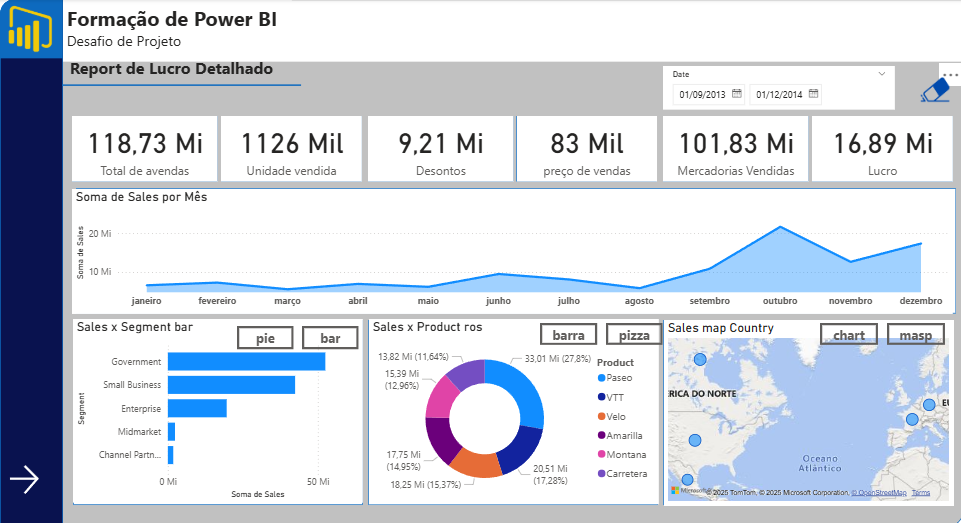

The dashboard page shown, as its layout file describes it:
{"tool":"powerbi","page":{"name":"Página 1","canvas":[1280,720],"ordinal":0},"visuals":[{"type":"shape","box":[0,1.7,1280,702.5],"z":0},{"type":"slicer","fields":{"Values":["financials.Date"]},"box":[880.7,89.1,308.2,61.7],"z":0,"group":"g2"},{"type":"shape","box":[96,156.4,193.3,86.9],"z":0,"group":"g1"},{"type":"pieChart","title":"Sales x  Segment piz","fields":{"Category":["financials.Segment"],"Y":["Sum(financials. Sales)"]},"box":[101.3,426.6,381.5,245.9],"z":0,"group":"g3"},{"type":"treemap","title":"Sales x Country  seg","fields":{"Group":["financials.Country"],"Values":["Sum(financials. Sales)"]},"box":[882,426.7,383.6,245.6],"z":0,"group":"g4"},{"type":"shape","box":[0,0,83.4,687.8],"z":1000},{"type":"actionButton","box":[1194.3,90.4,70.2,56.6],"z":1000,"group":"g2"},{"type":"shape","box":[293.7,156.4,187.5,86.9],"z":1000,"group":"g1"},{"type":"clusteredBarChart","title":"Sales x  Segment bar","fields":{"Y":["Sum(financials. Sales)"],"Category":["financials.Segment"]},"box":[97.2,424.6,385.1,244.1],"z":1000,"group":"g3"},{"type":"columnChart","title":"Sales x Product bar","fields":{"Category":["financials.Product"],"Y":["Sum(financials. Sales)"]},"box":[488.8,425.5,384.5,246.1],"z":1000,"group":"g5"},{"type":"map","title":"Sales map Country","fields":{"Category":["financials.Country"],"Size":["Sum(financials. Sales)"]},"box":[882,426.7,383.6,245.6],"z":1000,"group":"g4"},{"type":"shape","box":[0,0,83.4,79],"z":2000},{"type":"shape","box":[488.6,156.4,193.3,86.9],"z":2000,"group":"g1"},{"type":"actionButton","title":"Spix","box":[314.8,434.3,75.2,30.9],"z":2000,"group":"g3"},{"type":"shape","box":[83.4,1.8,1197.1,82.3],"z":3000},{"type":"shape","box":[881.1,156.4,193.3,86.9],"z":3000,"group":"g1"},{"type":"actionButton","title":"Sbar","box":[401.7,434.3,75.2,30.9],"z":3000,"group":"g3"},{"type":"textbox","box":[84.2,1.7,304.1,80.8],"z":4000},{"type":"shape","box":[686.3,156.4,187.5,86.9],"z":4000,"group":"g1"},{"type":"shape","box":[82,83.4,317.6,61.5],"z":5000},{"type":"shape","box":[1078.8,156.4,187.5,86.9],"z":5000,"group":"g1"},{"type":"card","fields":{"Values":["Sum(financials.COGS)"]},"box":[881.1,155.9,193.3,86.9],"z":6000,"group":"g1"},{"type":"shape","box":[101,251.7,1169.3,166.8],"z":6000},{"type":"card","fields":{"Values":["Sum(financials.Profit)"]},"box":[1078.8,155.9,187.5,86.9],"z":7000,"group":"g1"},{"type":"shape","box":[881,425.9,384.9,245.9],"z":7000},{"type":"image","title":"borracha","box":[1217.6,93.7,48.3,52.7],"z":8000},{"type":"card","fields":{"Values":["Sum(financials.Discounts)"]},"box":[488.6,155.9,193.3,86.9],"z":8000,"group":"g1"},{"type":"card","fields":{"Values":["Sum(financials.Sale Price)"]},"box":[687.8,155.9,186,86.9],"z":9000,"group":"g1"},{"type":"shape","box":[488.8,425.9,384.9,245.9],"z":9000},{"type":"card","fields":{"Values":["Sum(financials.Units Sold)"]},"box":[293.7,155.9,187.5,86.9],"z":10000,"group":"g1"},{"type":"shape","box":[96.6,425.9,384.9,245.9],"z":10000},{"type":"group","id":"g1","title":"Cartões ","box":[96,155.9,1170.3,87.4],"z":11000},{"type":"card","fields":{"Values":["Sum(financials. Sales)"]},"box":[96,155.9,193.3,86.9],"z":11000,"group":"g1"},{"type":"areaChart","fields":{"Category":["financials.Date.Variation.Hierarquia de datas.Mês"],"Y":["Sum(financials. Sales)"]},"box":[96,251.9,1170.3,166.2],"z":12000},{"type":"group","id":"g2","title":"filtro por data","box":[880.7,89.1,383.8,61.7],"z":13000},{"type":"group","id":"g3","title":"seles x segmentos","box":[97.2,424.6,385.5,247.9],"z":14000},{"type":"group","id":"g4","title":"sales por país ","box":[882,426.7,383.6,245.6],"z":15000},{"type":"group","id":"g5","title":"sales x produtos","box":[488.8,425.5,386.2,246.1],"z":16000},{"type":"actionButton","title":"Sbar","box":[716.9,430.1,76,29.4],"z":17000},{"type":"actionButton","title":"Sbar","box":[805.4,430.1,75.4,29.1],"z":18000},{"type":"actionButton","title":"btPag2","box":[6.8,613.5,68.4,49.6],"z":19000},{"type":"actionButton","title":"Sbar","box":[1178.9,430.1,77.1,29.1],"z":20000},{"type":"actionButton","title":"Sbar","box":[1089.8,430.1,77.1,29.1],"z":21000},{"type":"textbox","box":[87.6,72.2,300.7,48.1],"z":22000},{"type":"image","box":[0,0,82.5,79],"z":23000}]}

Visuals, with their boxes on the page's 1280x720 design canvas (x1, y1, x2, y2). These are canvas units, not pixel positions in the 961x523 screenshot, which may show the page scaled, cropped or inside an application window:
shape: (0,2,1280,704)
slicer - financials.Date: (881,89,1189,151)
shape: (96,156,289,243)
"Sales x  Segment piz" pieChart: (101,427,483,672)
"Sales x Country  seg" treemap: (882,427,1266,672)
shape: (0,0,83,688)
actionButton: (1194,90,1264,147)
shape: (294,156,481,243)
"Sales x  Segment bar" clusteredBarChart: (97,425,482,669)
"Sales x Product bar" columnChart: (489,426,873,672)
"Sales map Country" map: (882,427,1266,672)
shape: (0,0,83,79)
shape: (489,156,682,243)
"Spix" actionButton: (315,434,390,465)
shape: (83,2,1280,84)
shape: (881,156,1074,243)
"Sbar" actionButton: (402,434,477,465)
textbox: (84,2,388,82)
shape: (686,156,874,243)
shape: (82,83,400,145)
shape: (1079,156,1266,243)
card - Sum(financials.COGS): (881,156,1074,243)
shape: (101,252,1270,418)
card - Sum(financials.Profit): (1079,156,1266,243)
shape: (881,426,1266,672)
"borracha" image: (1218,94,1266,146)
card - Sum(financials.Discounts): (489,156,682,243)
card - Sum(financials.Sale Price): (688,156,874,243)
shape: (489,426,874,672)
card - Sum(financials.Units Sold): (294,156,481,243)
shape: (97,426,482,672)
"Cartões " group: (96,156,1266,243)
card - Sum(financials. Sales): (96,156,289,243)
areaChart - financials.Date.Variation.Hierarquia de datas.Mês x Sum(financials. Sales): (96,252,1266,418)
"filtro por data" group: (881,89,1264,151)
"seles x segmentos" group: (97,425,483,672)
"sales por país " group: (882,427,1266,672)
"sales x produtos" group: (489,426,875,672)
"Sbar" actionButton: (717,430,793,460)
"Sbar" actionButton: (805,430,881,459)
"btPag2" actionButton: (7,614,75,663)
"Sbar" actionButton: (1179,430,1256,459)
"Sbar" actionButton: (1090,430,1167,459)
textbox: (88,72,388,120)
image: (0,0,82,79)
